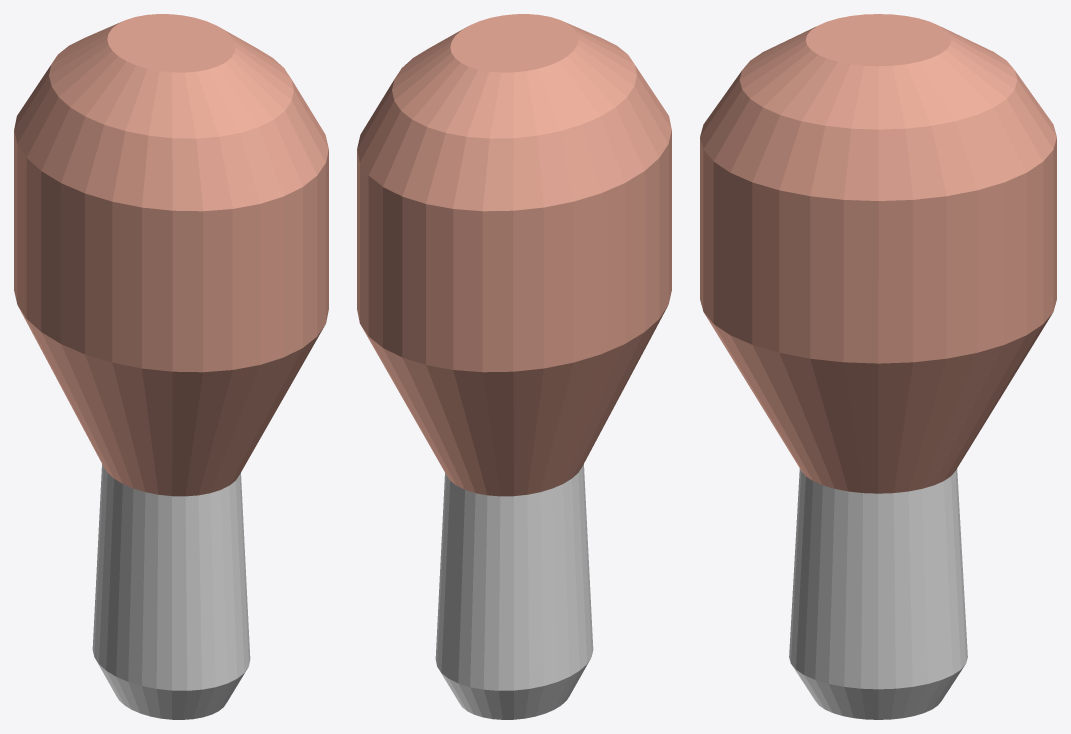
File: Ayam Fillet(Paha).fbx
3 views of the same model, side by side, from view 1: azimuth 30°, elevation 25°; view 2: azimuth 150°, elevation 25°; view 3: azimuth 270°, elevation 25° (orthographic).
Parts seen in each view (by area): view 1: Cylinder; view 2: Cylinder; view 3: Cylinder.
Part boxes in pixels (box(x1,y1,x2,y2)): Cylinder: box(14, 14, 328, 719); Cylinder: box(357, 14, 671, 719); Cylinder: box(700, 14, 1056, 719).
Size of the model in its own units: 90.91 by 217 by 107.
